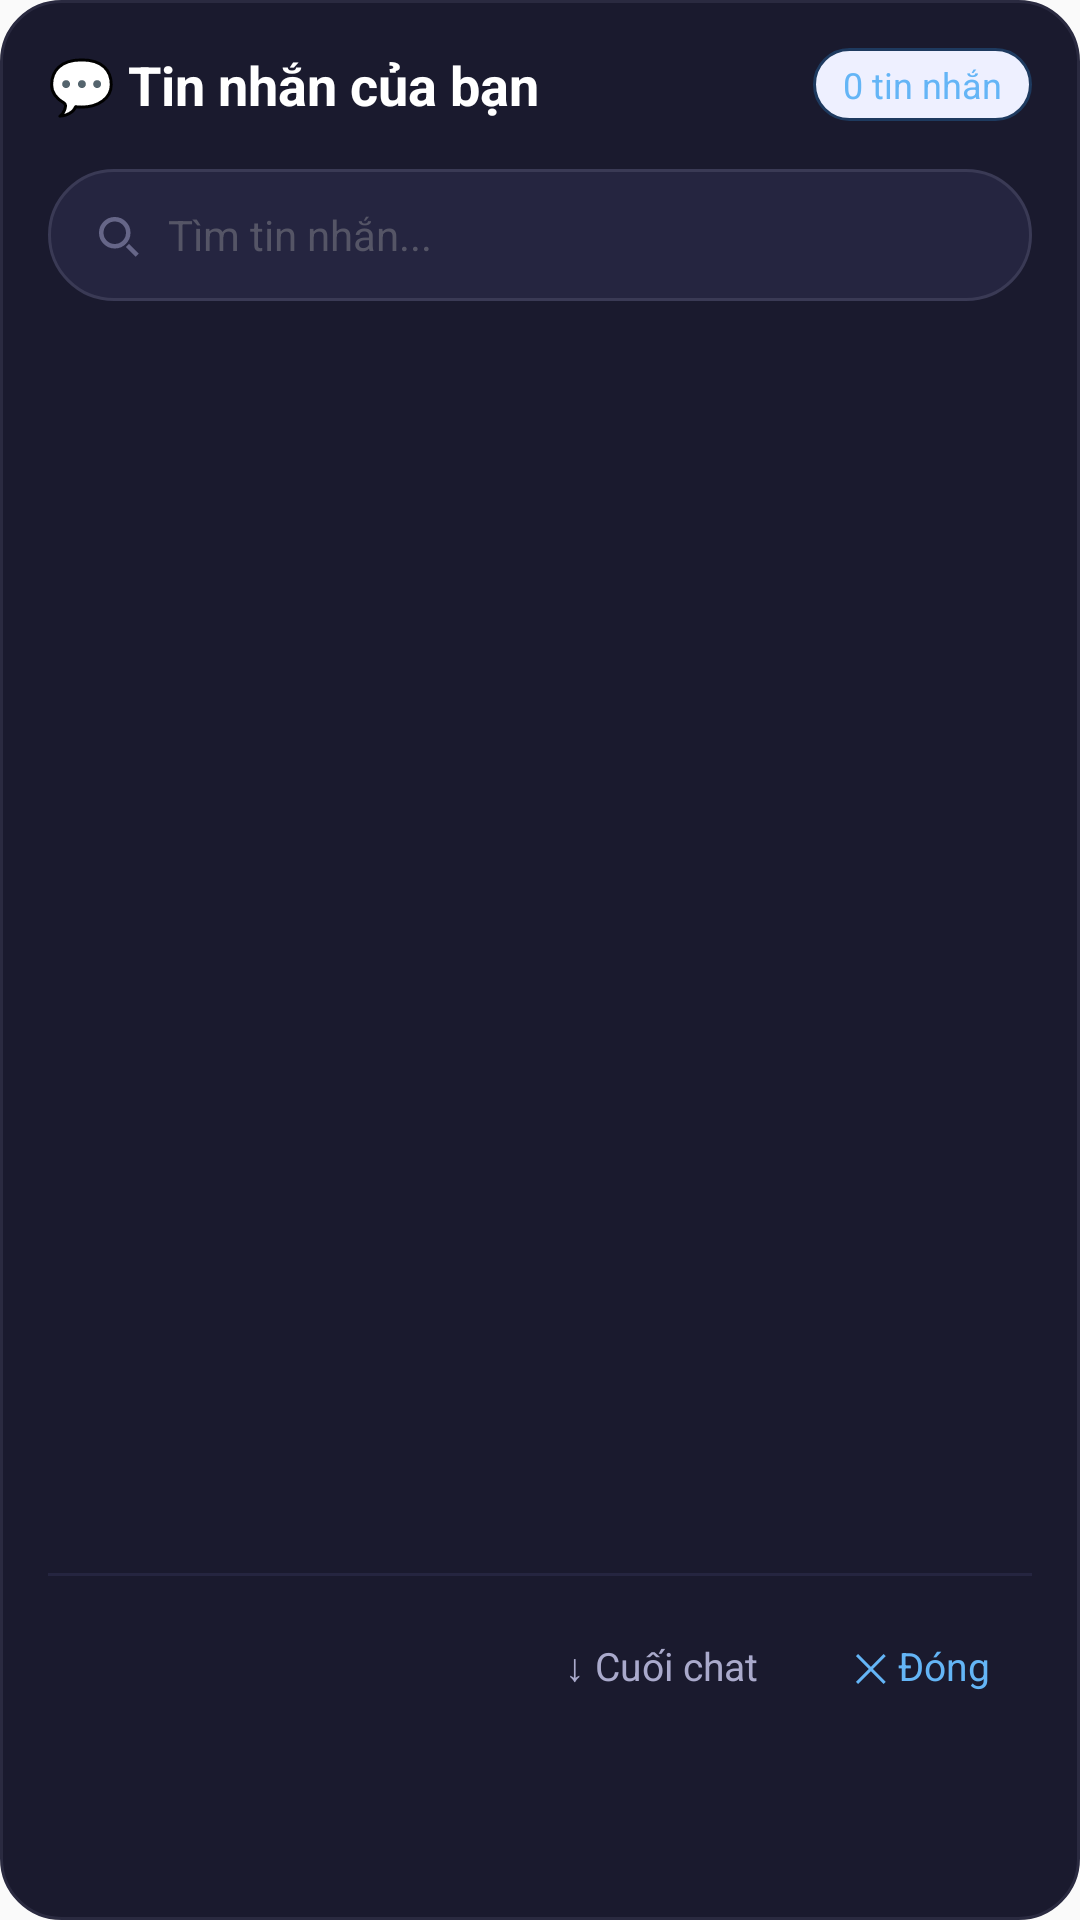

Icons on this 1080px x 1920px Android screen, each with its box as bbox=(x1, y1, x2, y2):
search: bbox=(99, 217, 139, 257)
